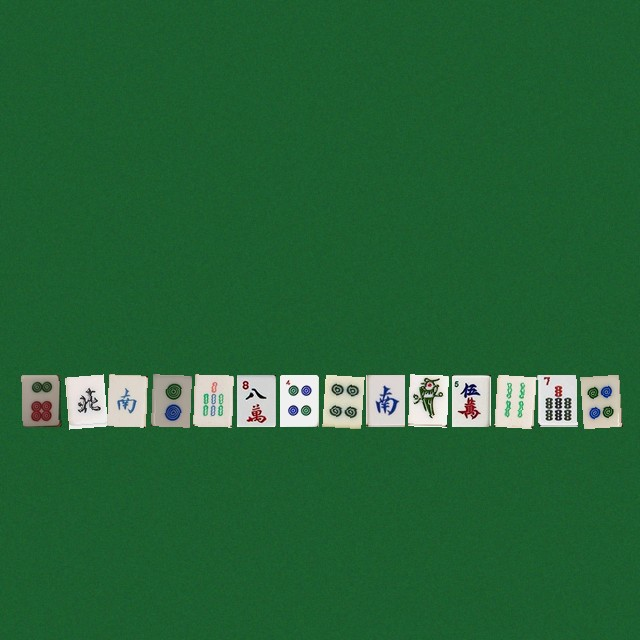tile: (21, 374, 60, 426), (64, 374, 103, 426), (107, 374, 146, 426), (150, 374, 189, 426), (193, 374, 232, 426), (236, 374, 275, 426), (279, 374, 318, 426), (322, 374, 361, 426), (365, 374, 404, 426), (408, 374, 447, 426), (451, 374, 490, 426), (494, 374, 533, 426), (537, 374, 576, 426), (580, 374, 619, 426)
